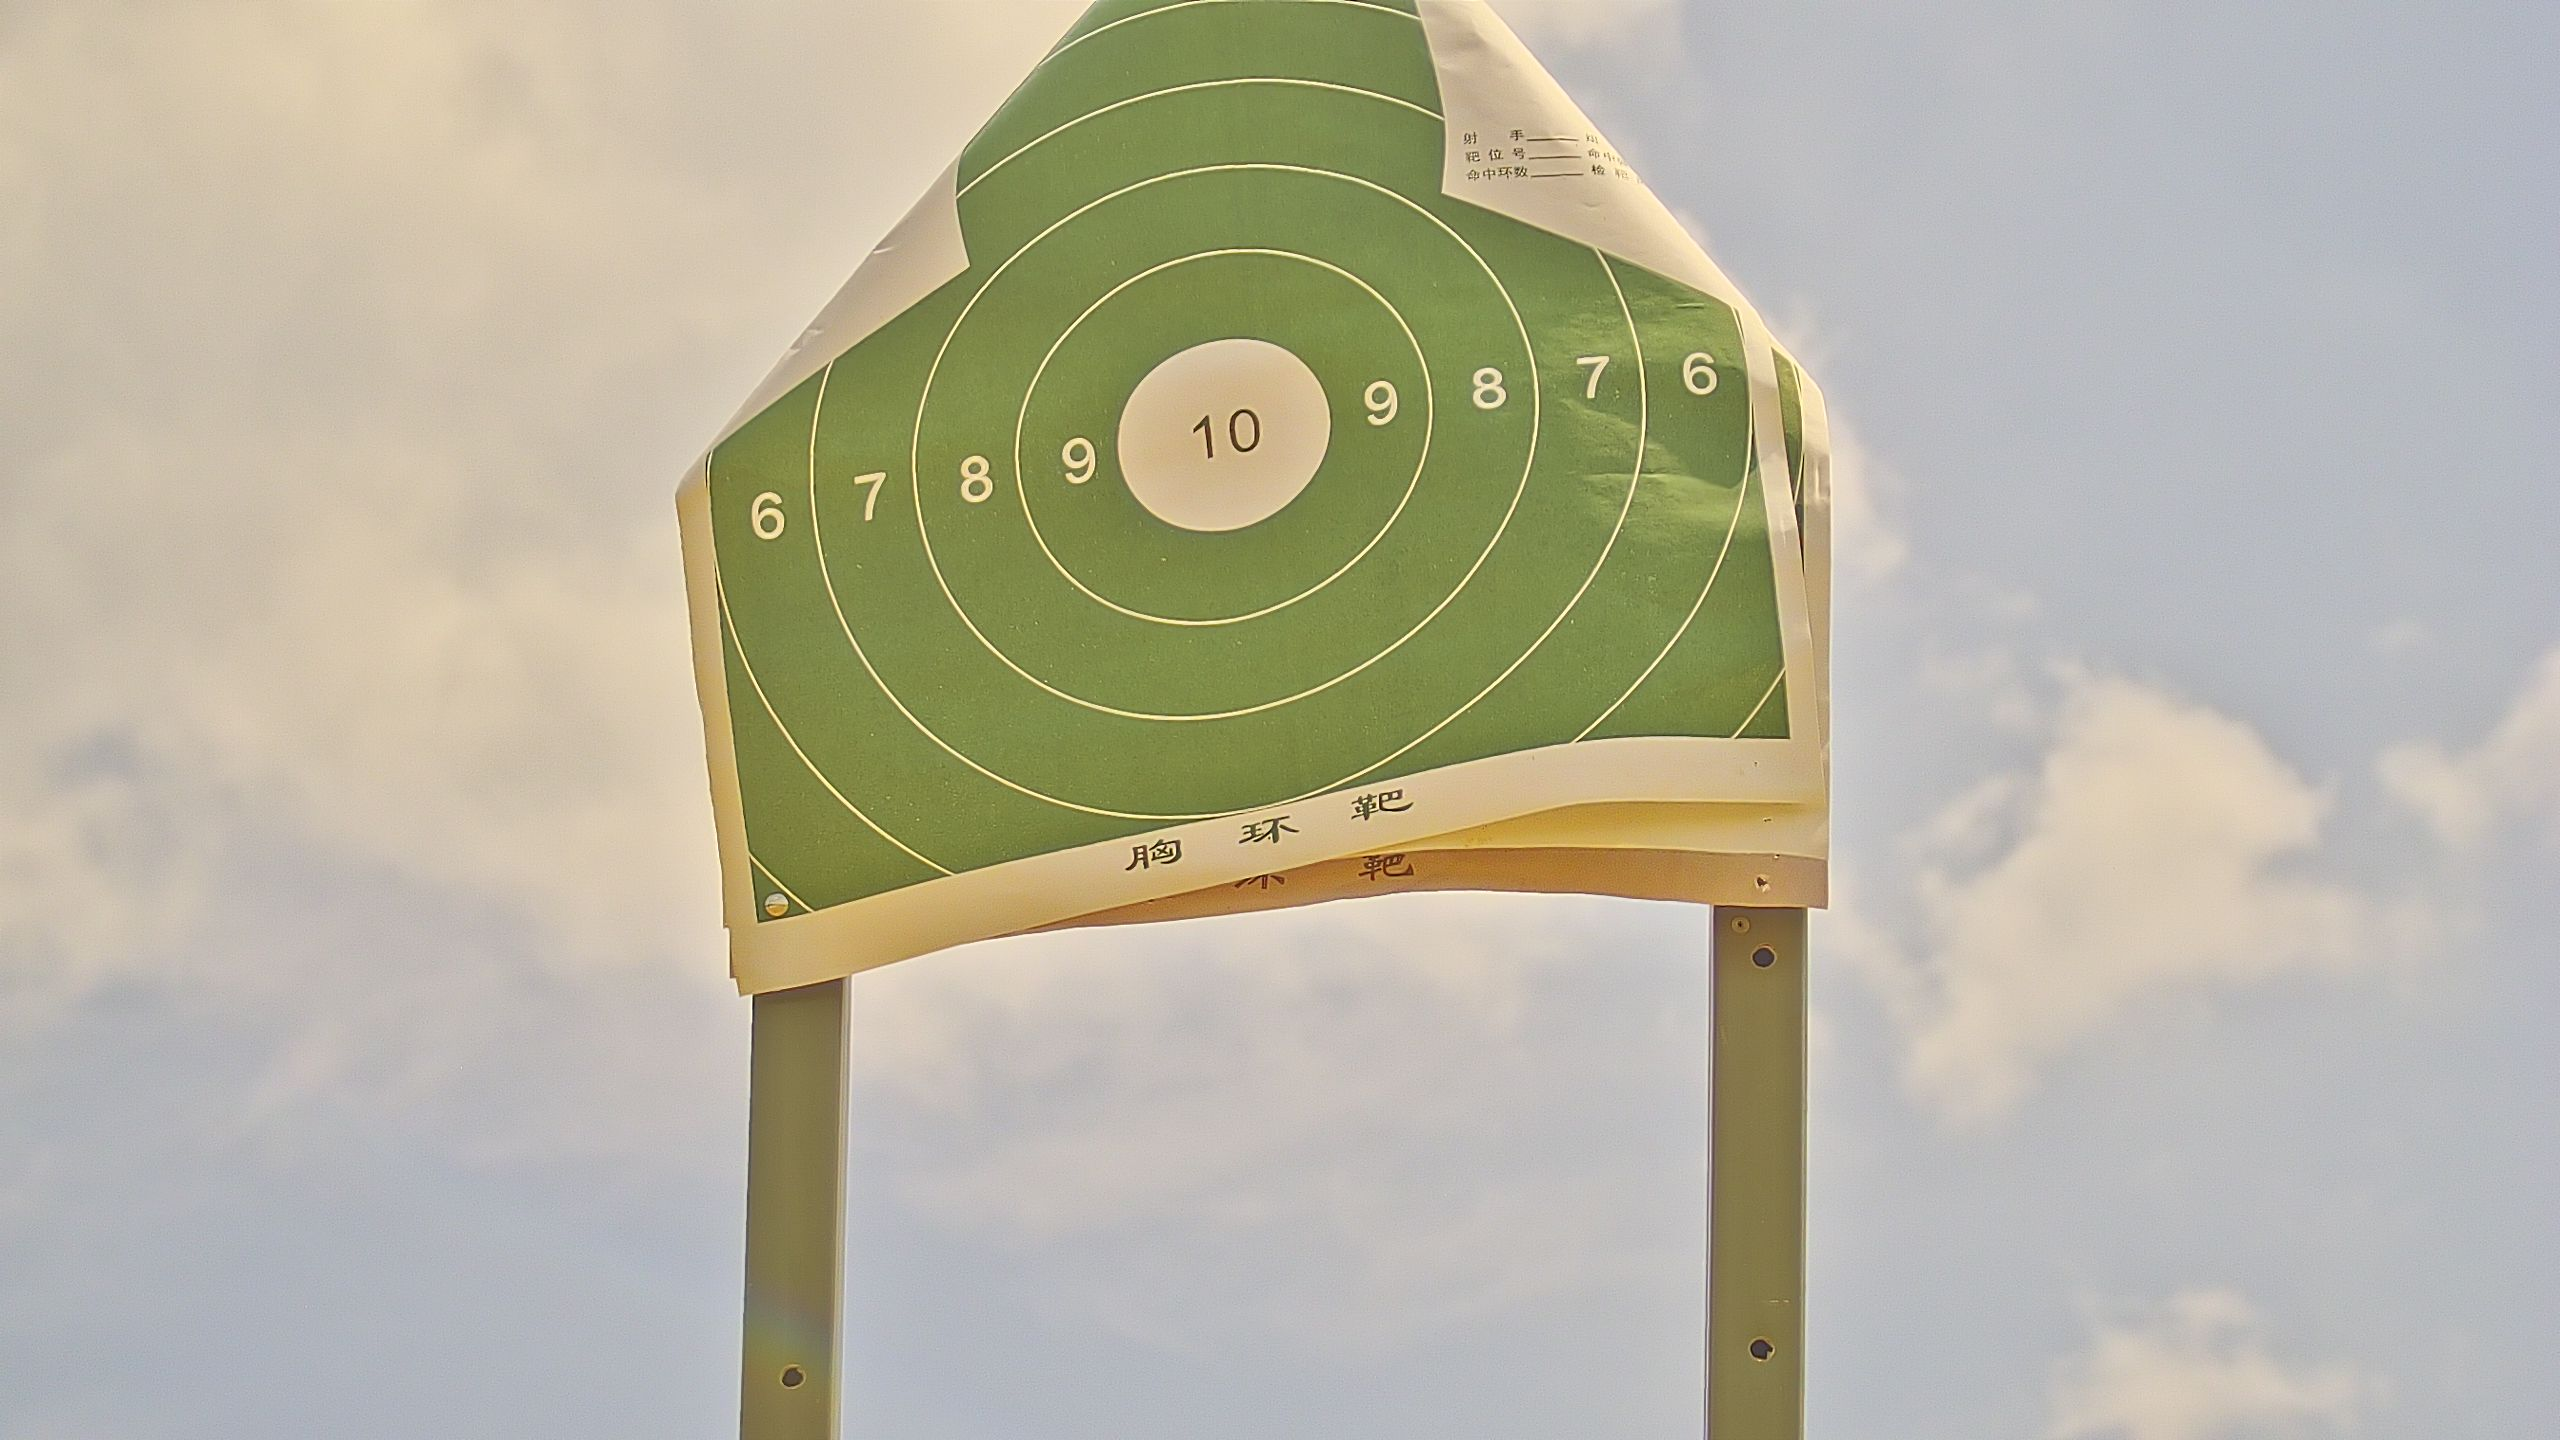kernel: (1222, 434, 1225, 440)
target: (705, 2, 1809, 921)
ten: (1116, 336, 1333, 538)
